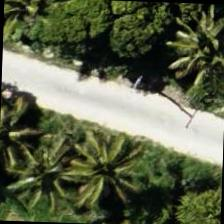Kelapa_Sawit: (58, 122, 152, 214), (0, 126, 92, 220), (157, 5, 223, 98)
